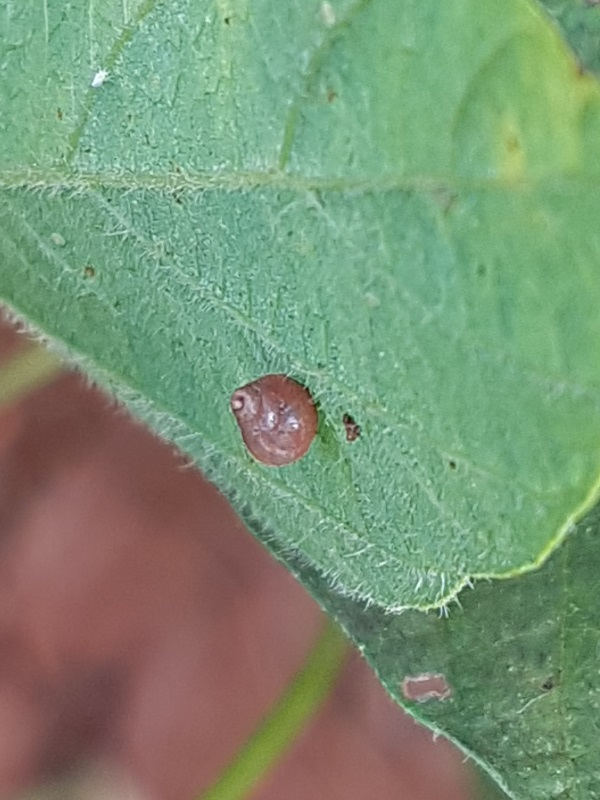Gastropoda: (208, 364, 343, 480)
